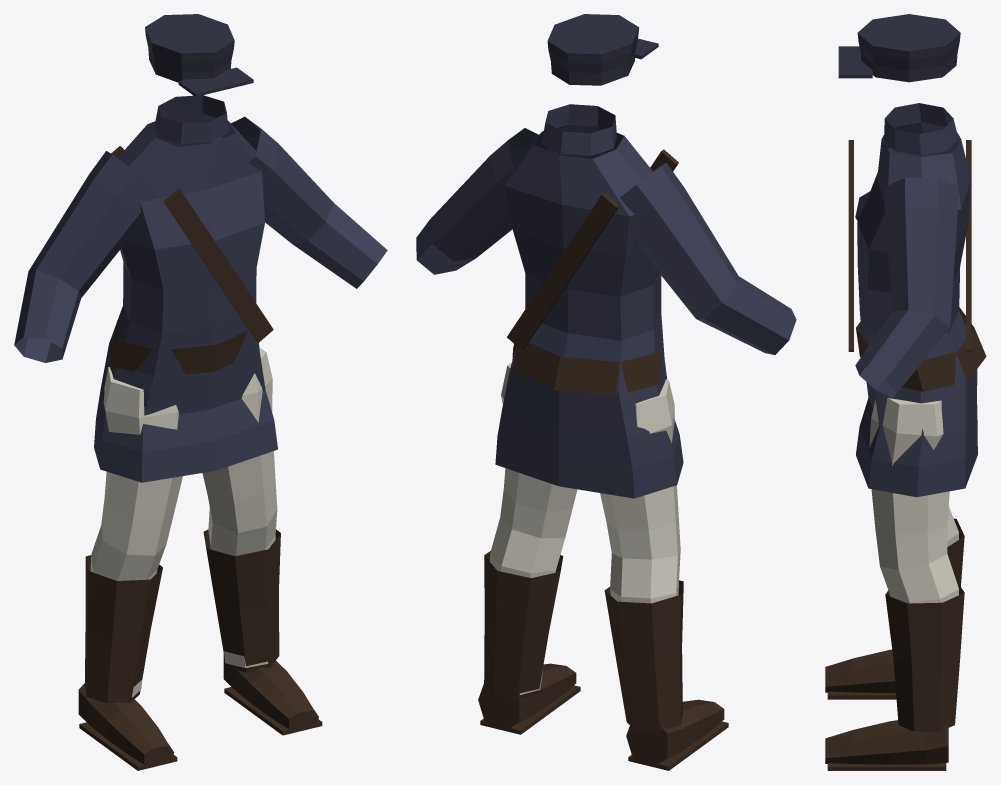
Rendered from tenue_police_militaire_lod1.glb.
3 views of the same model, side by side, from view 1: azimuth 30°, elevation 25°; view 2: azimuth 150°, elevation 25°; view 3: azimuth 270°, elevation 25° (orthographic). The views are drawn at different scales.
Visible parts, largest first — view 1: spine_02, pelvis, calf_r, calf_l, upperarm_r, thigh_r, head, upperarm_l, thigh_l, foot_r, lowerarm_r, foot_l (+2 smaller); view 2: spine_02, pelvis, calf_r, calf_l, upperarm_r, upperarm_l, thigh_r, head, lowerarm_r, thigh_l, foot_r, foot_l (+2 smaller); view 3: spine_02, calf_l, pelvis, upperarm_l, thigh_l, head, foot_l, lowerarm_l, foot_r, neck_01, calf_r.
Part boxes in pixels (x1,y1,x2,y2): spine_02: (100,113,273,415); pelvis: (94,320,277,482); calf_r: (85,525,166,703); calf_l: (203,507,280,672); upperarm_r: (29,151,158,297); thigh_r: (101,367,182,555); head: (145,14,253,96); upperarm_l: (211,116,333,244); thigh_l: (202,347,277,532); foot_r: (78,683,177,770); lowerarm_r: (14,269,81,362); foot_l: (223,654,322,735); spine_02: (502,124,678,438); pelvis: (495,342,683,498); calf_r: (604,550,683,731); calf_l: (484,518,565,699); upperarm_r: (620,163,738,318); upperarm_l: (430,128,558,261); thigh_r: (600,379,680,559); head: (547,14,658,85); lowerarm_r: (696,276,796,354); thigh_l: (500,362,577,538); foot_r: (626,699,728,770); foot_l: (478,663,580,734); spine_02: (848,122,977,435); calf_l: (880,554,964,731); pelvis: (856,307,986,497); upperarm_l: (884,178,958,325); thigh_l: (869,398,949,569); head: (838,14,960,82); foot_l: (825,720,948,770); lowerarm_l: (855,309,950,397); foot_r: (825,649,896,699); neck_01: (884,103,958,155); calf_r: (947,506,964,586).
Bounding box in the file's own units: 0.9516 × 1.69 × 0.356.
